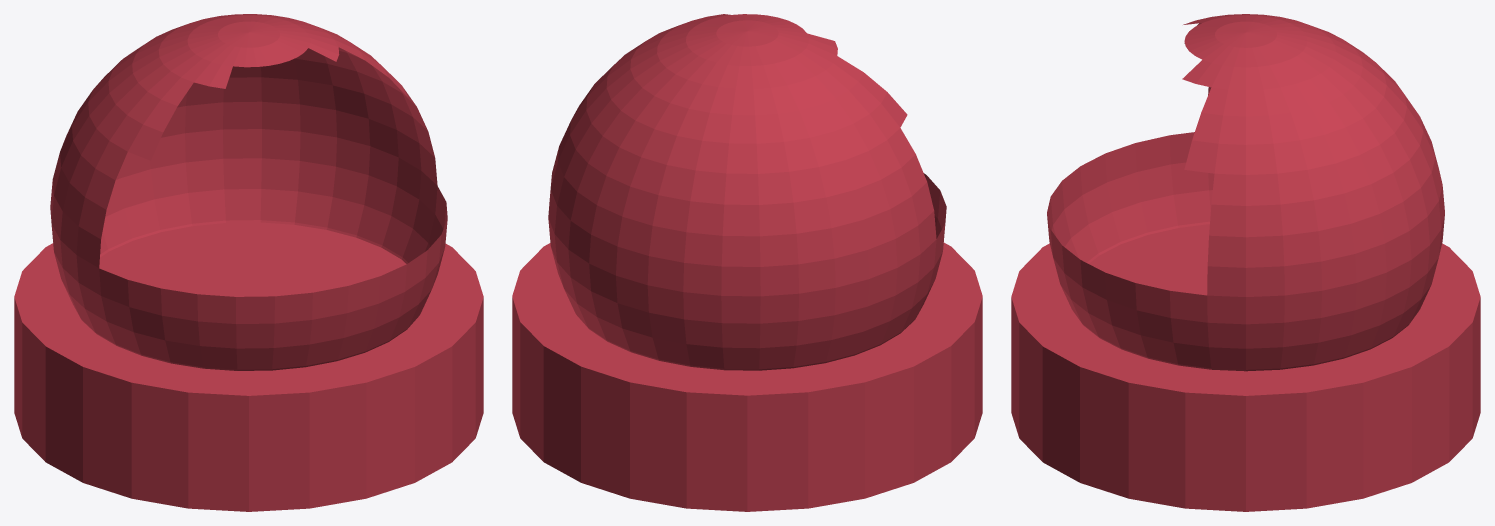
The model's file is wear_hood.glb.
3 views of the same model, side by side, from view 1: azimuth 30°, elevation 25°; view 2: azimuth 150°, elevation 25°; view 3: azimuth 270°, elevation 25° (orthographic).
Visible parts, largest first — view 1: Hood, Drape; view 2: Hood, Drape; view 3: Hood, Drape.
Part boxes in pixels (x1,y1,x2,y2): Hood: (50, 14, 447, 370); Drape: (14, 222, 483, 511); Hood: (548, 14, 946, 370); Drape: (512, 242, 982, 511); Hood: (1047, 14, 1444, 371); Drape: (1011, 224, 1480, 511).
Bounding box in the file's own units: 0.33 × 0.295 × 0.33.
